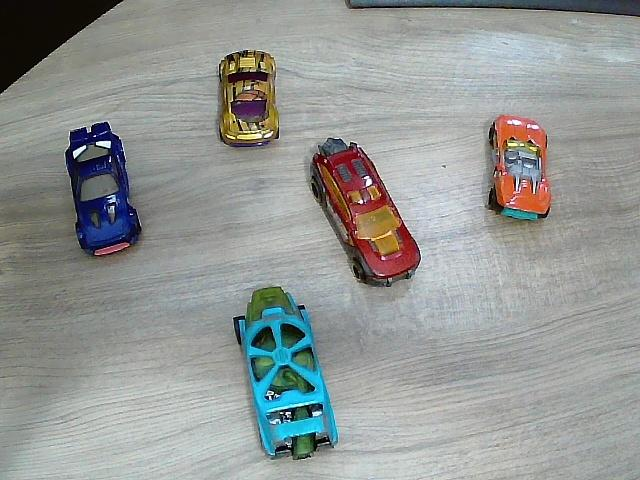Carro: (233, 288, 339, 461), (313, 138, 420, 287), (64, 121, 141, 258), (490, 116, 551, 222), (218, 51, 281, 149)
